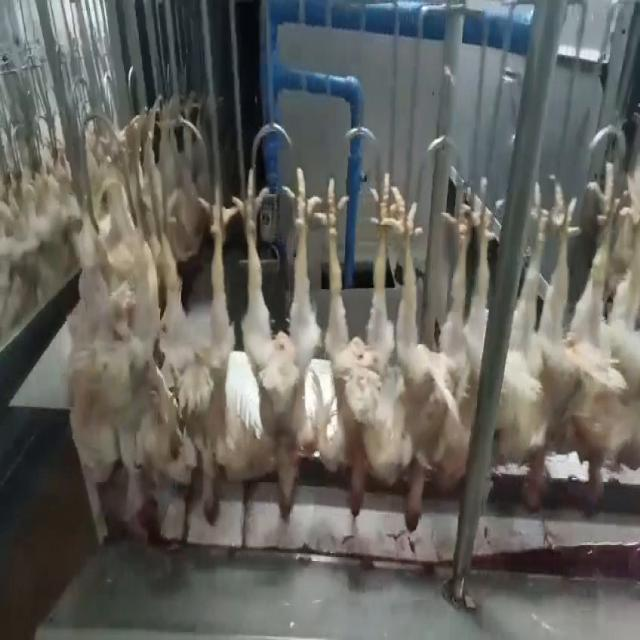chicken: (382, 171, 487, 537), (300, 161, 394, 523), (145, 164, 235, 528), (232, 157, 320, 518), (489, 178, 575, 512), (72, 170, 142, 550), (569, 157, 639, 509)
